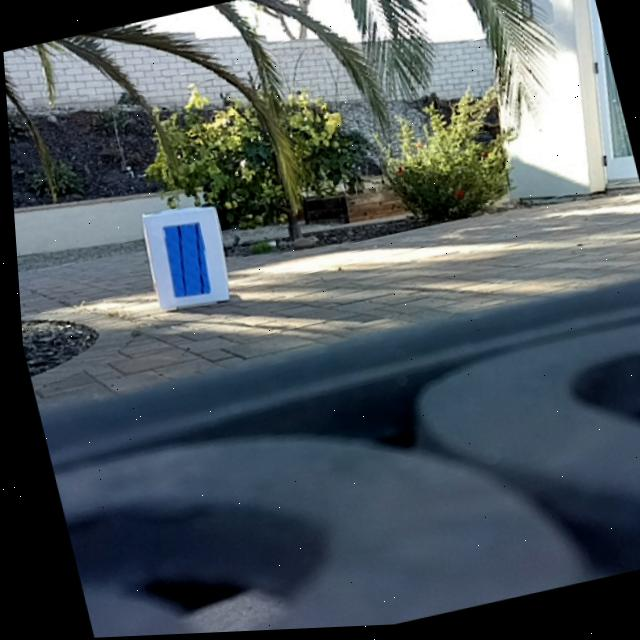led: (154, 218, 212, 303)
